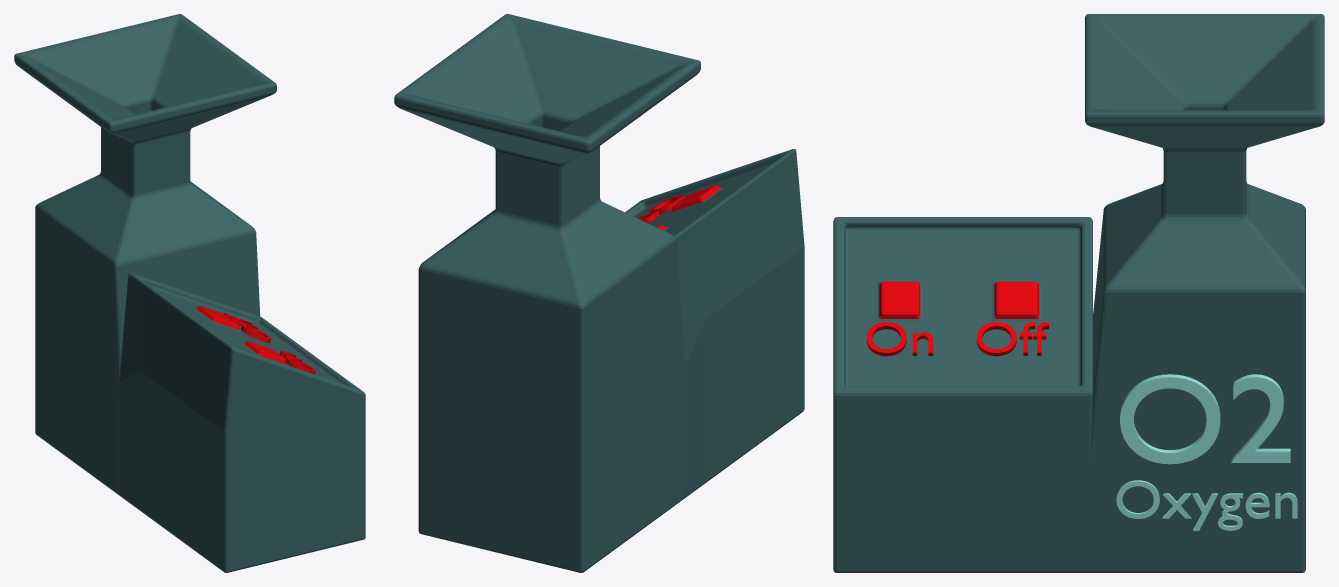
File: oxygen_generator.glb
The picture shows the model from 3 angles, left to right: view 1: azimuth 30°, elevation 25°; view 2: azimuth 150°, elevation 25°; view 3: azimuth 270°, elevation 25°; orthographic projection. The views are drawn at different scales.
Parts seen in each view (by area): view 1: Cube; view 2: Cube; view 3: Cube, Text.002, Text.003, Text.001, Text.
Part boxes in pixels (x1,y1,x2,y2): Cube: (14, 14, 365, 572); Cube: (394, 14, 804, 572); Cube: (833, 14, 1324, 572); Text.002: (1120, 374, 1290, 464); Text.003: (1116, 480, 1297, 530); Text.001: (976, 322, 1048, 356); Text: (866, 322, 933, 356).
Size of the model in its own units: 1.02 by 2.2 by 2.09.
